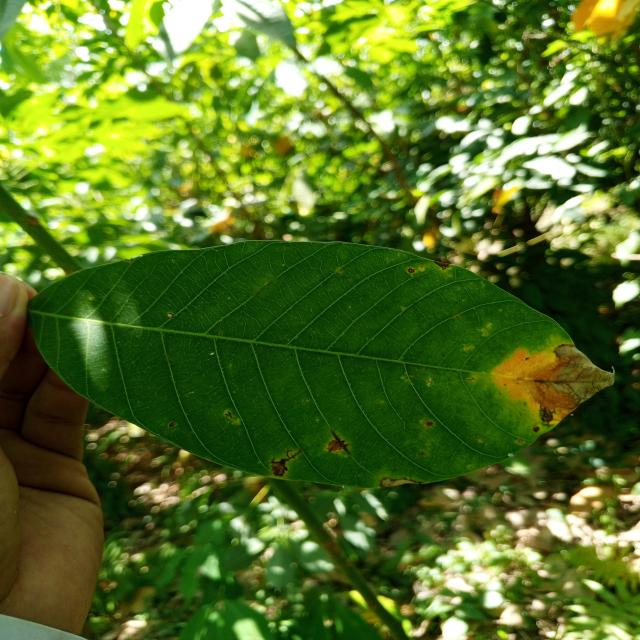Colletotrichum: (169, 422, 176, 428), (167, 313, 173, 318), (517, 439, 523, 444), (471, 378, 475, 380)
Corynespora: (268, 448, 302, 476), (327, 429, 351, 456), (538, 404, 557, 426)
Leaf-Blight: (545, 344, 615, 407), (383, 478, 419, 487)
